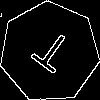T: (24, 27, 75, 82)
